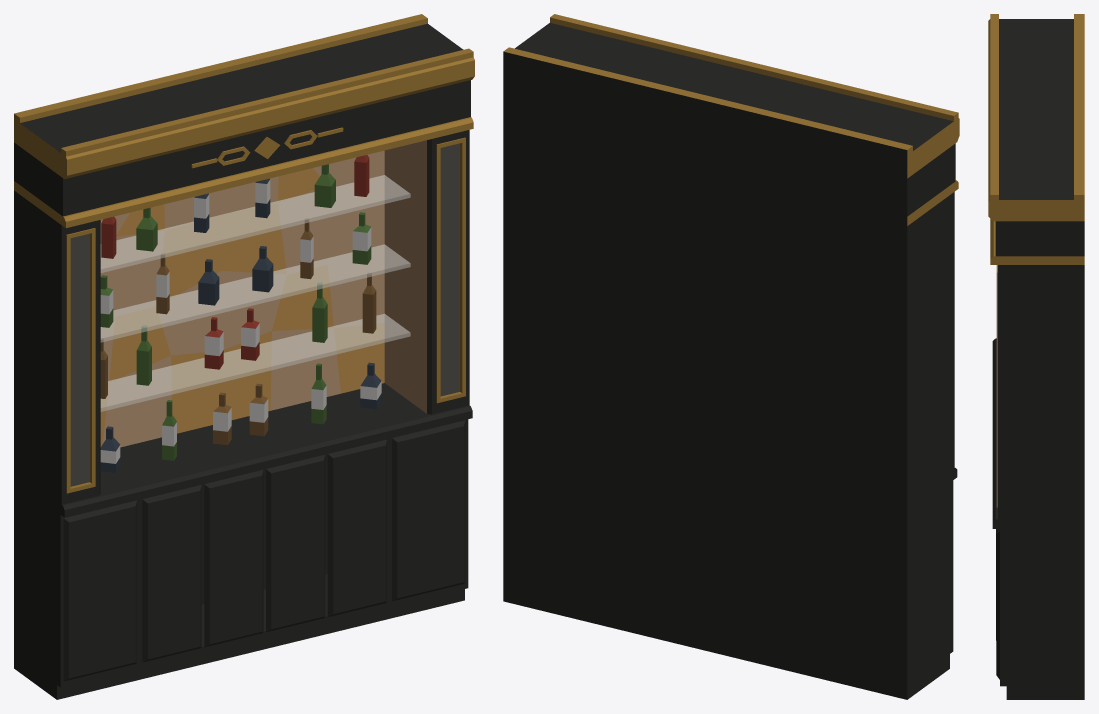
Rendered from backlit-onyx-back-bar-0cb6e3.glb.
3 views of the same model, side by side, from view 1: azimuth 30°, elevation 25°; view 2: azimuth 150°, elevation 25°; view 3: azimuth 270°, elevation 25° (orthographic). The views are drawn at different scales.
Visible parts, largest first — view 1: backlit-onyx-back-bar, onyx, glass-shelves, stock, door-1, door-2, door-4, door-3; view 2: backlit-onyx-back-bar; view 3: backlit-onyx-back-bar.
Part boxes in pixels (box(x1,y1,x2,y2)): backlit-onyx-back-bar: box(14, 14, 474, 699); onyx: box(100, 140, 426, 447); glass-shelves: box(100, 175, 410, 411); stock: box(100, 155, 381, 472); door-1: box(142, 485, 201, 662); door-2: box(204, 469, 263, 647); door-4: box(327, 439, 386, 616); door-3: box(266, 455, 325, 632); backlit-onyx-back-bar: box(503, 14, 959, 699); backlit-onyx-back-bar: box(988, 14, 1084, 699).
Bounding box in the file's own units: 2 × 2.6 × 0.45.
